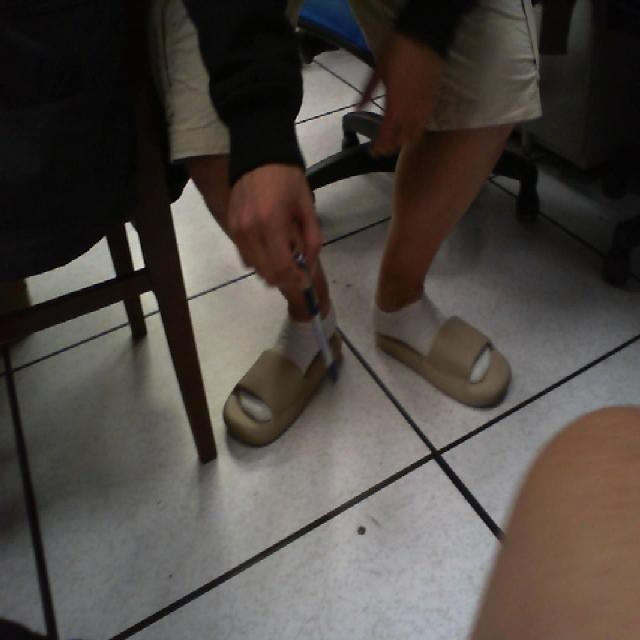Pen: (272, 224, 352, 384)
